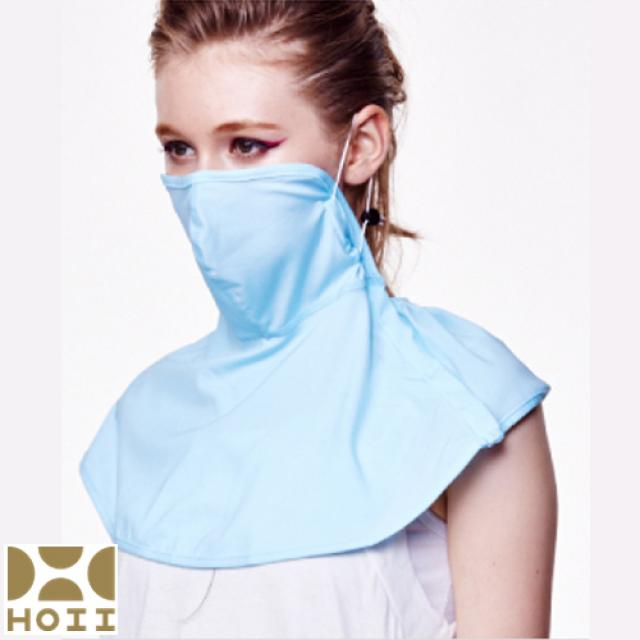mask: (155, 36, 339, 294)
